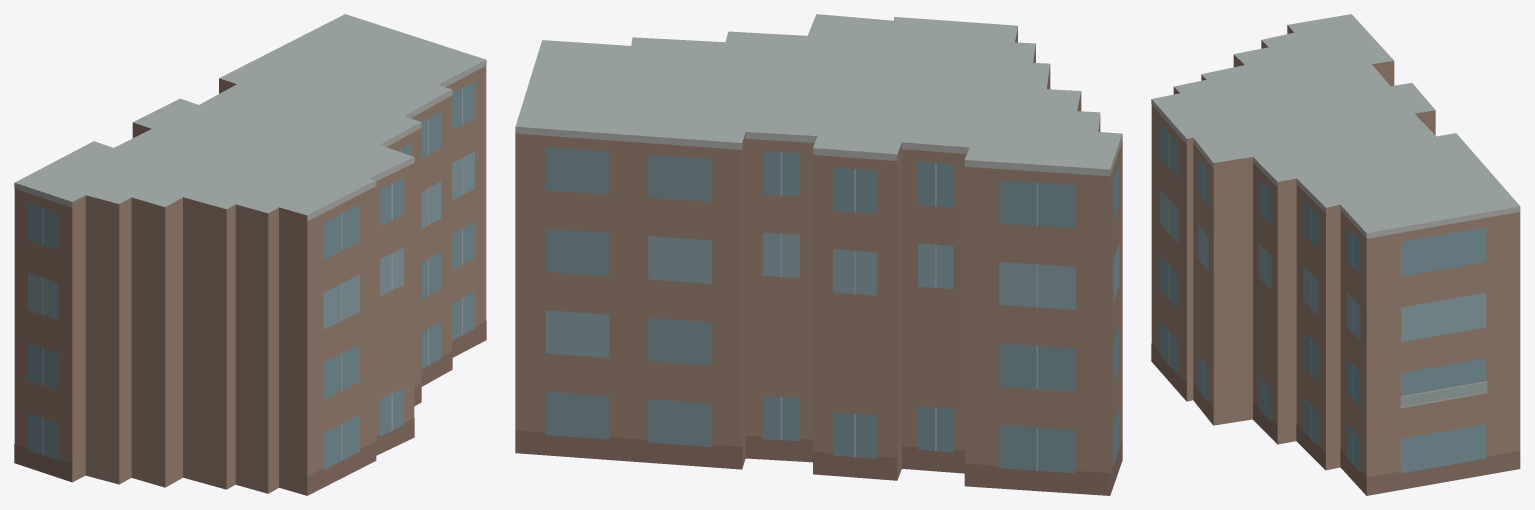
Rendered from survey-upis-32867548.glb.
The picture shows the model from 3 angles, left to right: view 1: azimuth 30°, elevation 25°; view 2: azimuth 150°, elevation 25°; view 3: azimuth 270°, elevation 25°; orthographic projection. The views are drawn at different scales.
Visible parts, largest first — view 1: survey-upis-32867548.tmp; view 2: survey-upis-32867548.tmp; view 3: survey-upis-32867548.tmp.
Part boxes in pixels (x1=…): survey-upis-32867548.tmp: x1=14, y1=14, x2=486, y2=495; survey-upis-32867548.tmp: x1=515, y1=14, x2=1122, y2=495; survey-upis-32867548.tmp: x1=1151, y1=14, x2=1520, y2=495.
Bounding box in the file's own units: 20.84 × 11.63 × 14.81.
